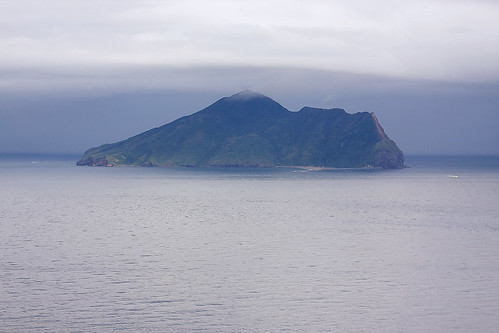turtleIsland: (87, 84, 411, 178)
